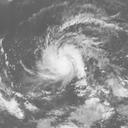cyclone: (33, 43, 87, 90)
